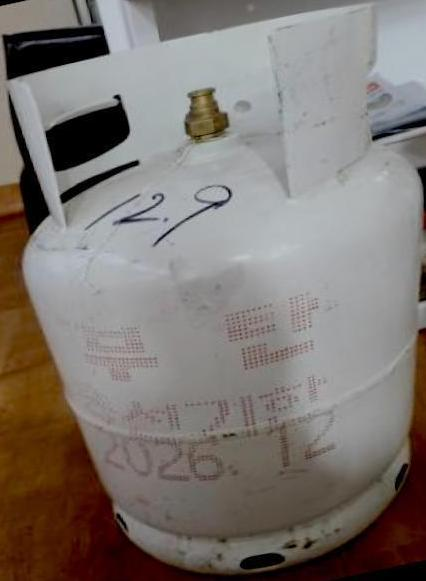cylinder: (1, 0, 426, 581)
